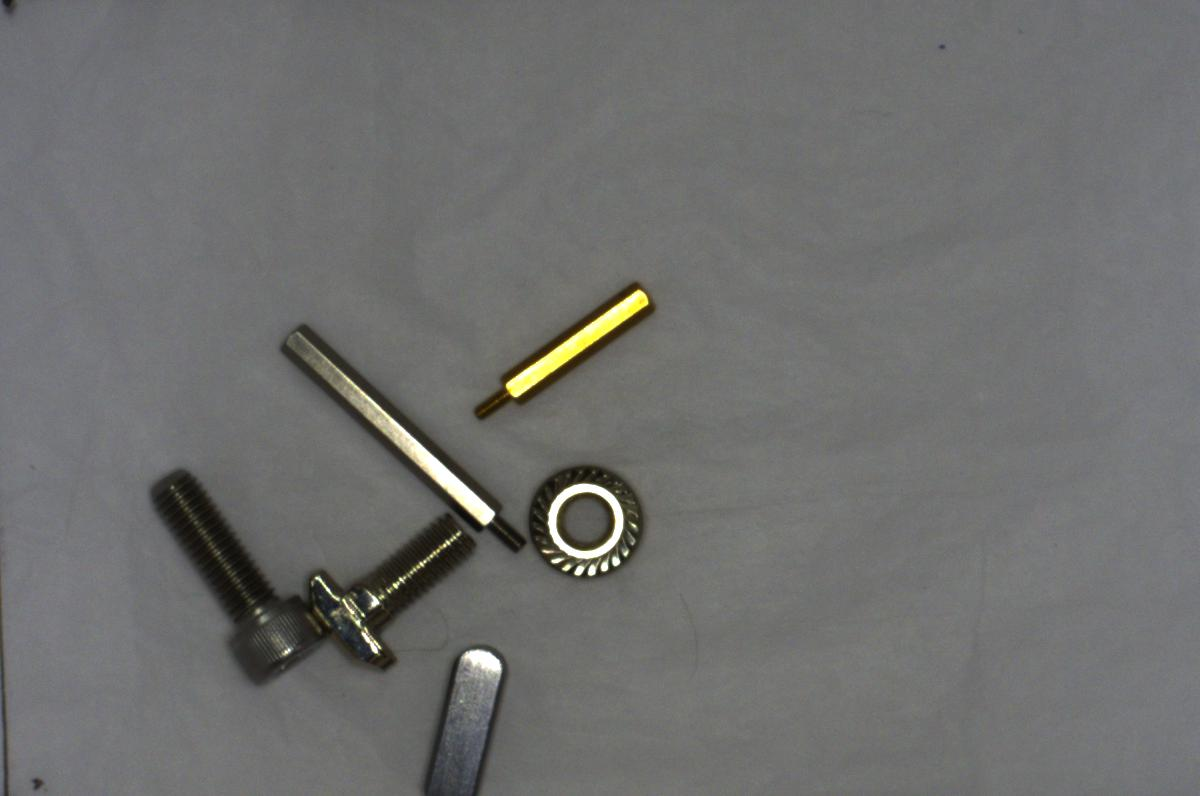Flange nut: (518, 449, 653, 590)
Hexagon pillar: (462, 282, 665, 429)
Hexagon screw: (132, 459, 320, 688)
Hexagonal steel column: (279, 318, 535, 554)
Keybar: (397, 639, 513, 795)
T-shaped screw: (302, 521, 479, 673)
